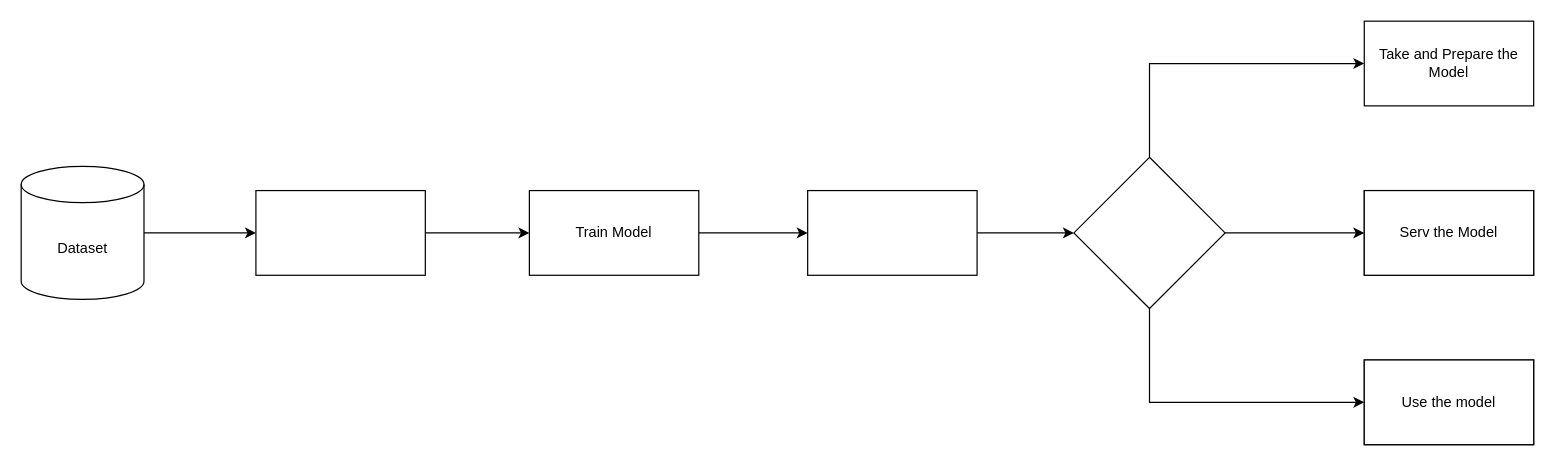
The diagram is 1555 pixels wide and 466 high, and some of its shapes have lost their labels. The shapes that lost their labels are listed below. From the top down, each one's box as (x1, y1, x2, y2) in pixels, then its label:
(255, 189, 425, 275): Prepare Data
(806, 189, 977, 275): Test Model
(1073, 156, 1225, 309): API
